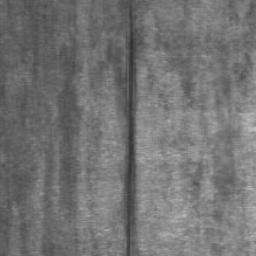Scratches: (125, 0, 137, 256)
